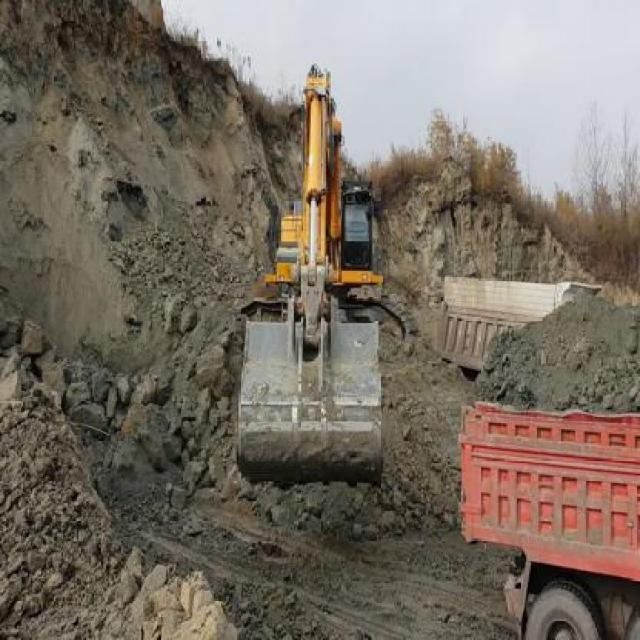Dump Truck: (455, 397, 640, 638), (436, 271, 604, 375)
Excavator: (237, 62, 421, 486)
